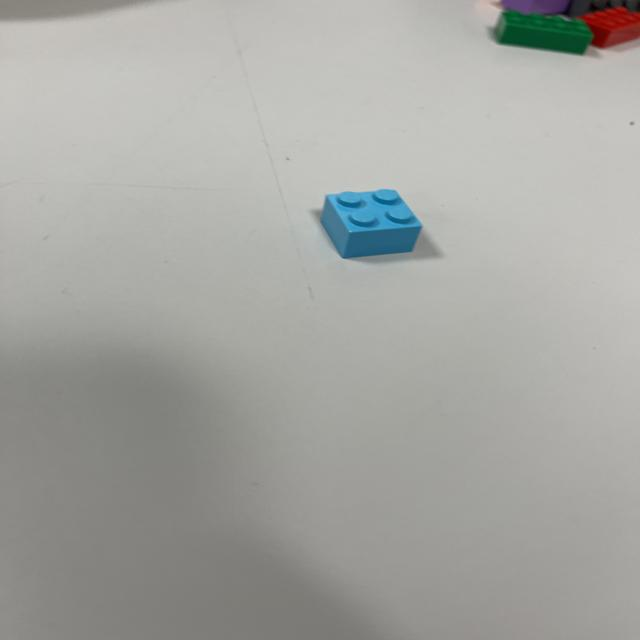C2x1x1: (319, 187, 423, 259)
